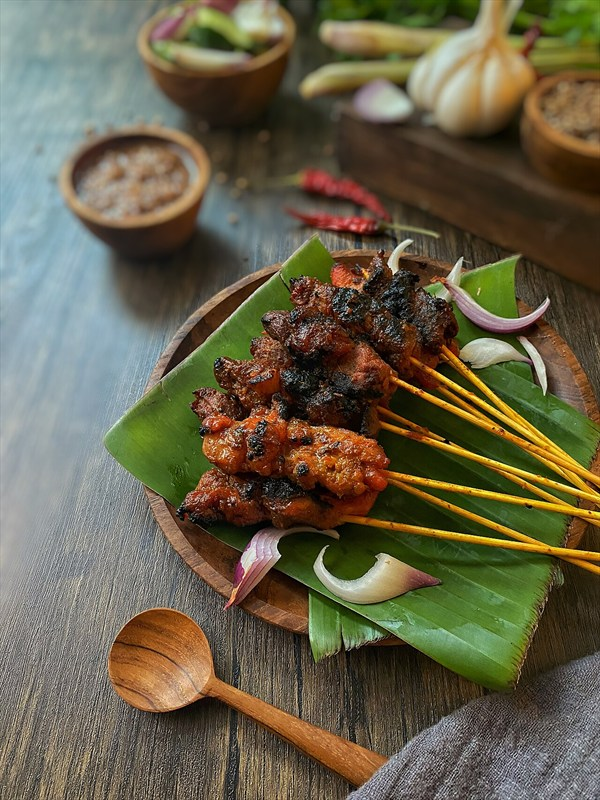Sate Ayam: (159, 45, 576, 675)
